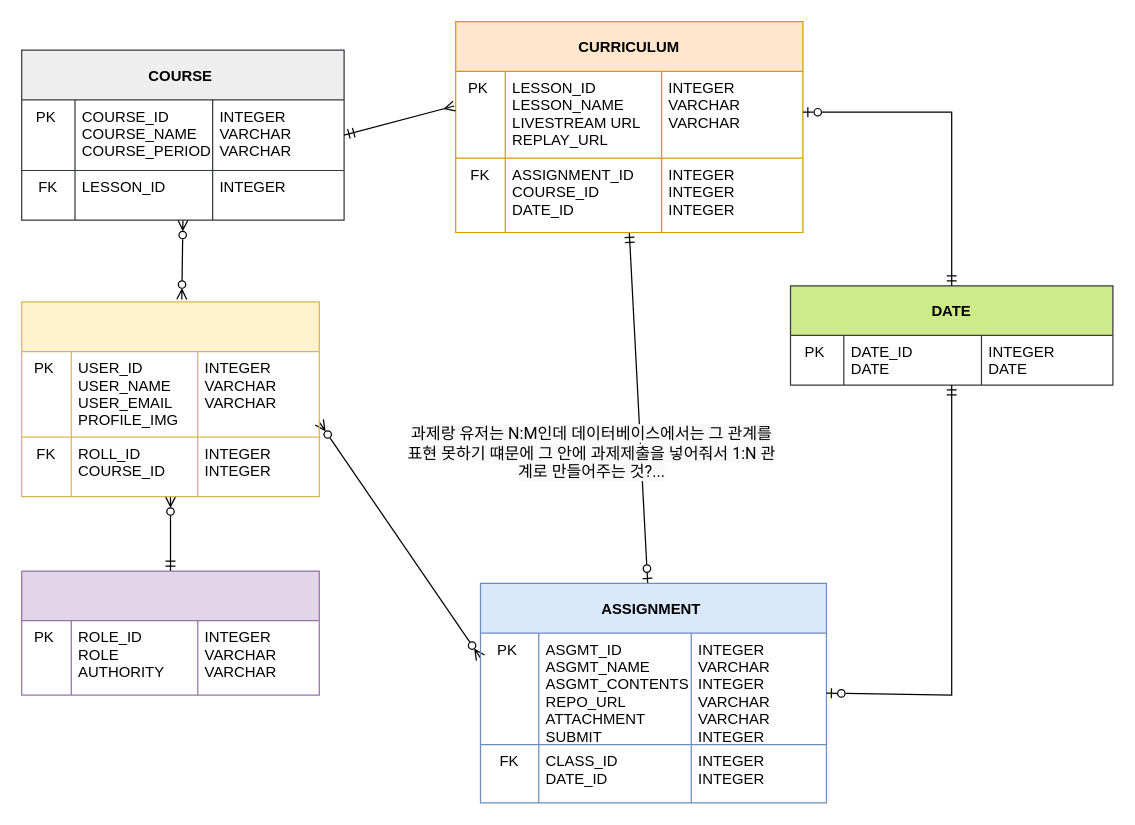
Some shapes in this 1135 by 825 pixel diagram are drawn without their labels. The box of each missing label's shape, as (x1, y1, x2, y2) in pixels:
ROLES: (20, 570, 319, 695)
USERS: (20, 301, 319, 497)
